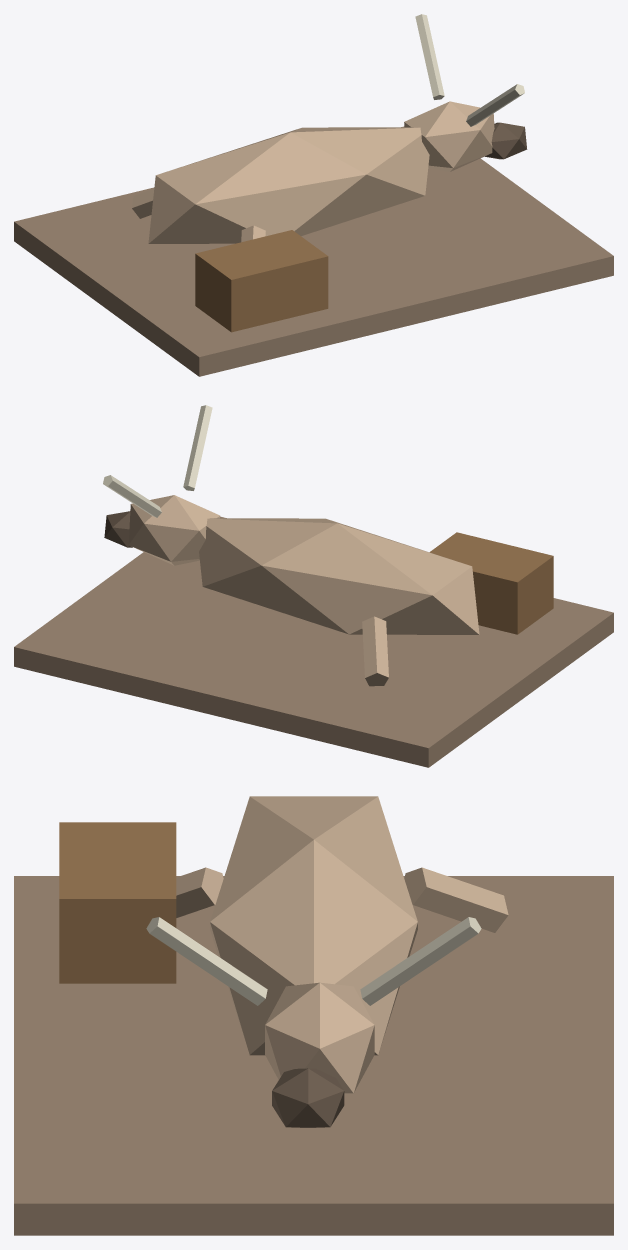
File: deer_hunting_trail.lod1.glb
3 views of the same model, one above another, from view 1: azimuth 30°, elevation 25°; view 2: azimuth 150°, elevation 25°; view 3: azimuth 270°, elevation 25° (orthographic). The views are drawn at different scales.
Bounding box in the file's own units: 2.66 × 1.05 × 2.05.
